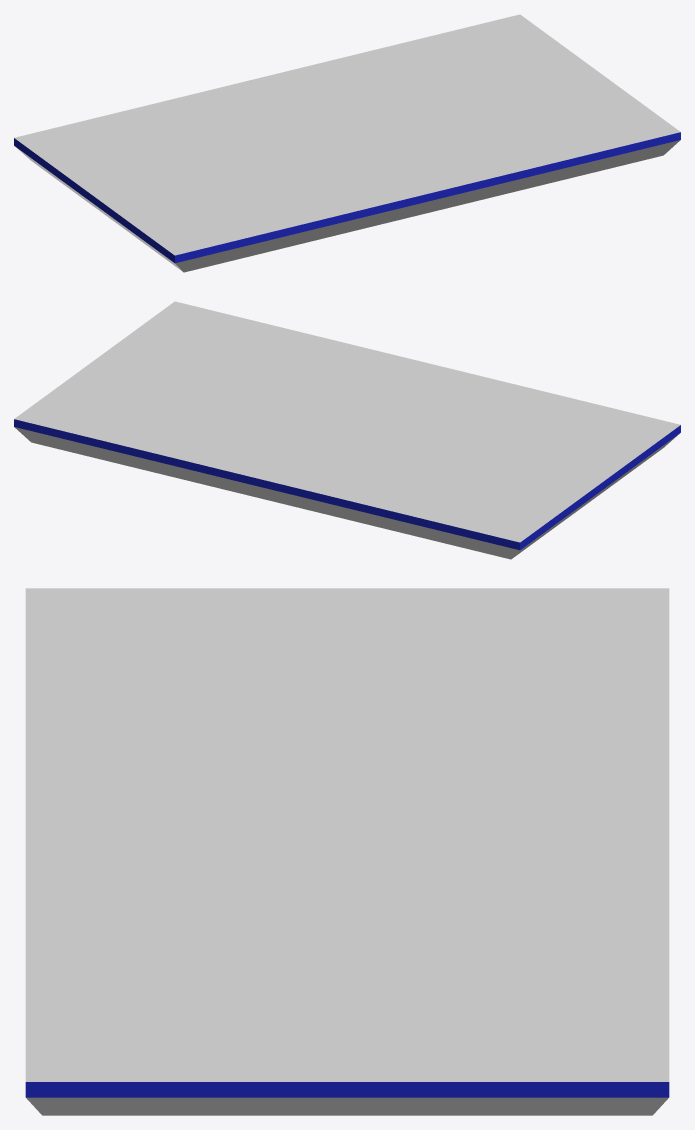
File: light_on.gltf
The picture shows the model from 3 angles, top to bottom: view 1: azimuth 30°, elevation 25°; view 2: azimuth 150°, elevation 25°; view 3: azimuth 270°, elevation 25°; orthographic projection. The views are drawn at different scales.
Visible parts, largest first — view 1: Plane.009; view 2: Plane.009; view 3: Plane.009.
Part boxes in pixels (x1=…): Plane.009: x1=14, y1=14, x2=680, y2=272; Plane.009: x1=14, y1=301, x2=680, y2=559; Plane.009: x1=25, y1=588, x2=669, y2=1115.
Size of the model in its own units: 1.78 by 0.0782 by 0.98.
